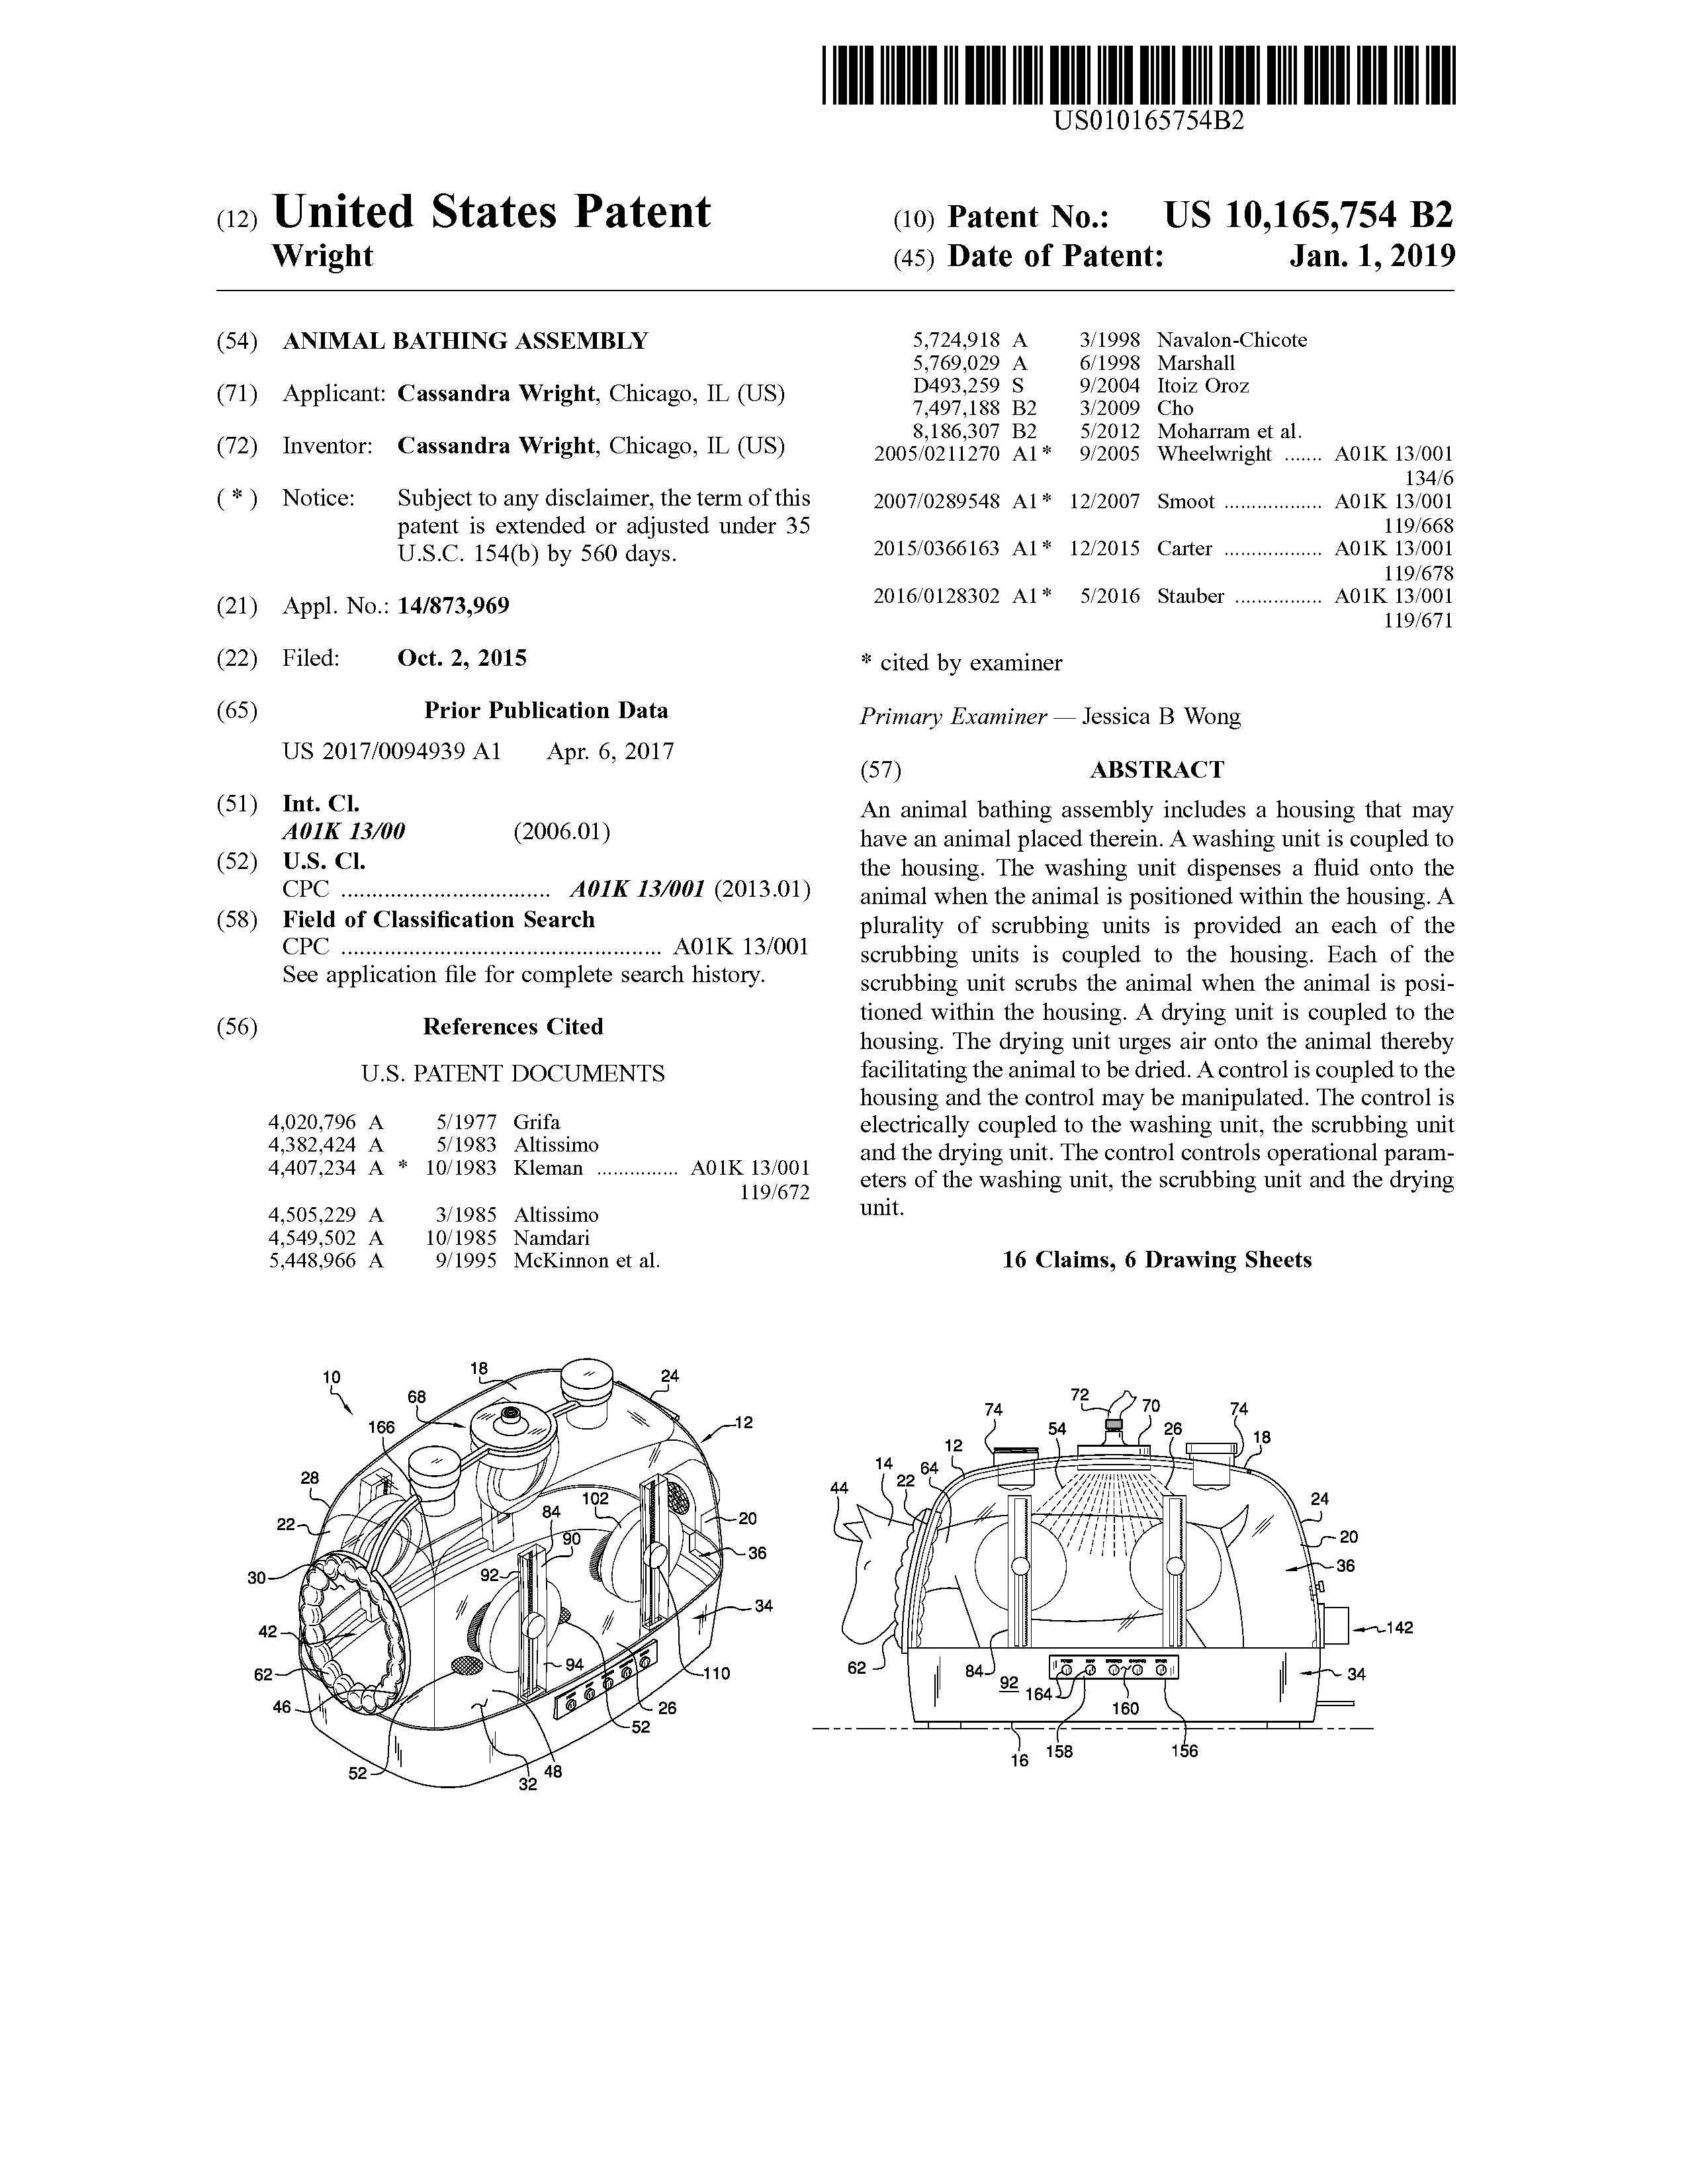patent image: (203, 1321, 1505, 1905)
